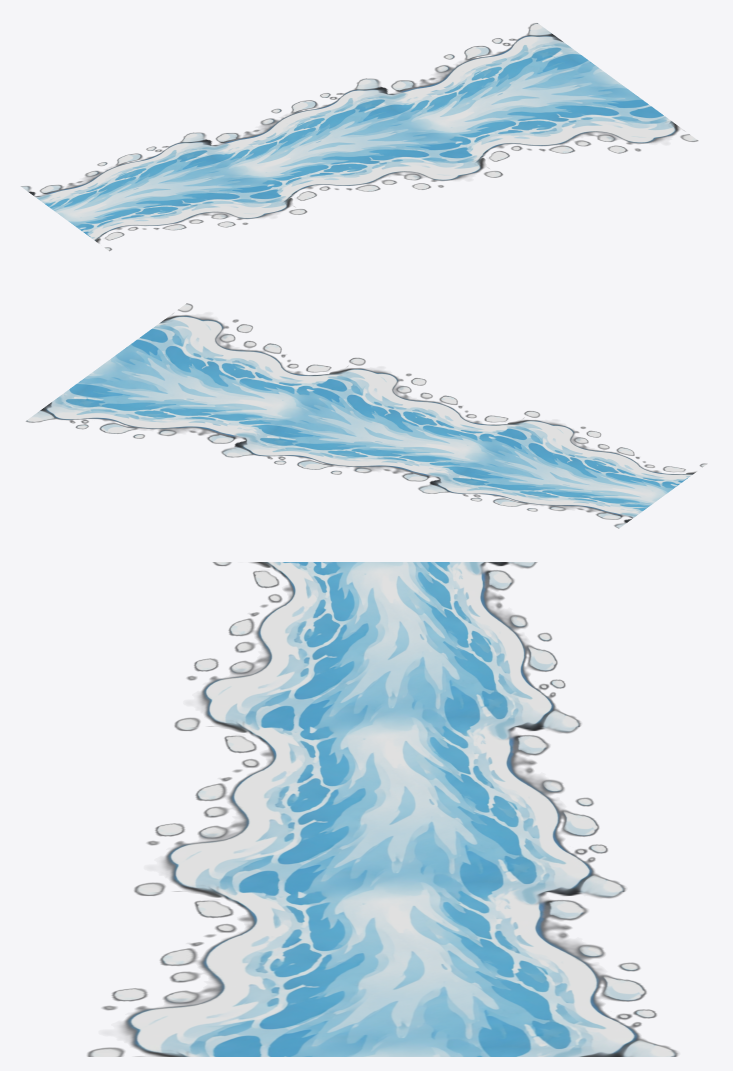
Rendered from Wake.glb.
The picture shows the model from 3 angles, top to bottom: view 1: azimuth 30°, elevation 25°; view 2: azimuth 150°, elevation 25°; view 3: azimuth 270°, elevation 25°; orthographic projection. The views are drawn at different scales.
Parts seen in each view (by area): view 1: Plane; view 2: Plane; view 3: Plane.
Part boxes in pixels (x1=…): Plane: x1=21, y1=23, x2=698, y2=250; Plane: x1=26, y1=303, x2=706, y2=528; Plane: x1=87, y1=562, x2=678, y2=1056.
Size of the model in its own units: 23.31 by 0 by 14.04.
1 material, 1 textured.
